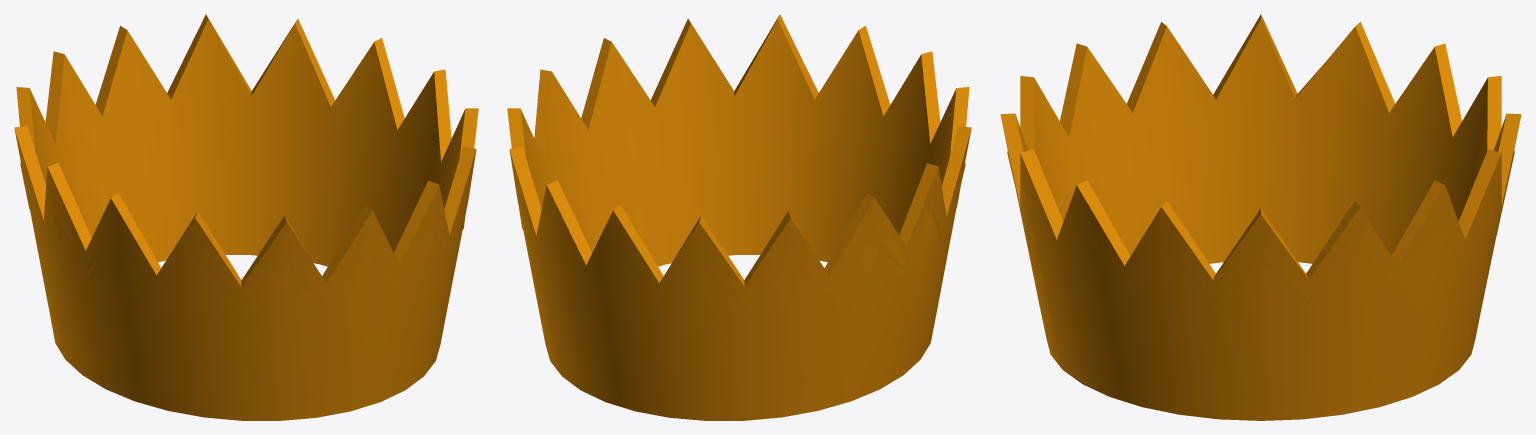
File: Crown.fbx
The picture shows the model from 3 angles, left to right: view 1: azimuth 30°, elevation 25°; view 2: azimuth 150°, elevation 25°; view 3: azimuth 270°, elevation 25°; orthographic projection. The views are drawn at different scales.
Visible parts, largest first — view 1: Cylinder; view 2: Cylinder; view 3: Cylinder.
Boxes of the visible parts, x1,y1,x2,y2 form: Cylinder: (14, 14, 478, 420); Cylinder: (507, 14, 971, 420); Cylinder: (1000, 14, 1521, 420).
Size of the model in its own units: 218 by 114 by 240.
